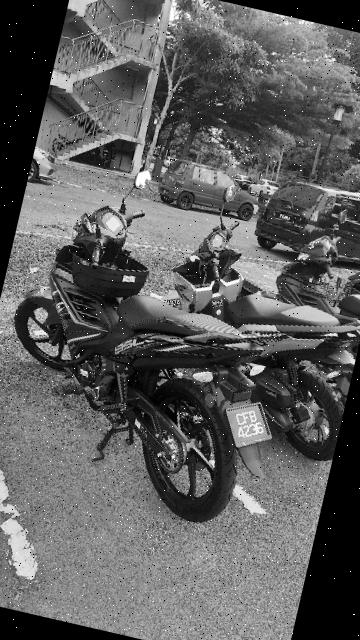License_Plate: (211, 384, 293, 457)
car: (150, 148, 274, 232), (253, 174, 360, 270)
motorcycle: (1, 138, 336, 535), (138, 178, 360, 464), (261, 199, 360, 371)
